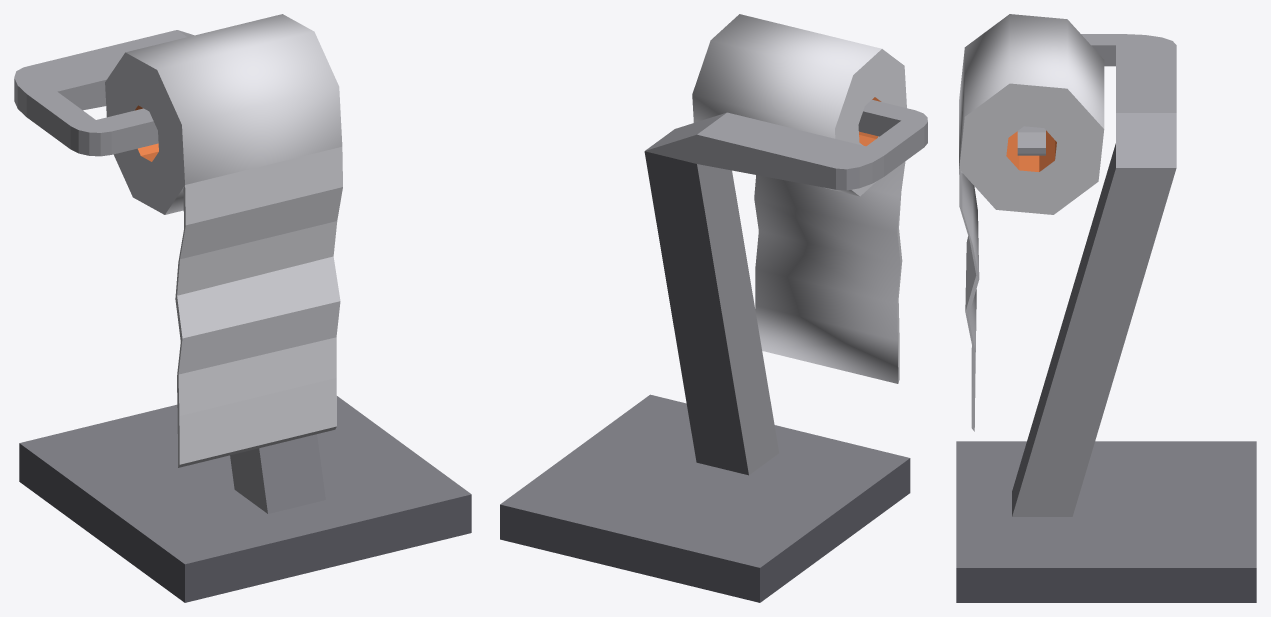
The model's file is PapelHigienicoFix.fbx.
3 views of the same model, side by side, from view 1: azimuth 30°, elevation 25°; view 2: azimuth 150°, elevation 25°; view 3: azimuth 270°, elevation 25° (orthographic). The views are drawn at different scales.
Visible parts, largest first — view 1: PapelHigienici; view 2: PapelHigienici; view 3: PapelHigienici.
Boxes of the visible parts, bbox=[...] form: PapelHigienici: bbox=[14, 14, 471, 602]; PapelHigienici: bbox=[500, 14, 927, 602]; PapelHigienici: bbox=[956, 14, 1256, 602].
Bounding box in the file's own units: 74.04 × 103 × 60.4.
